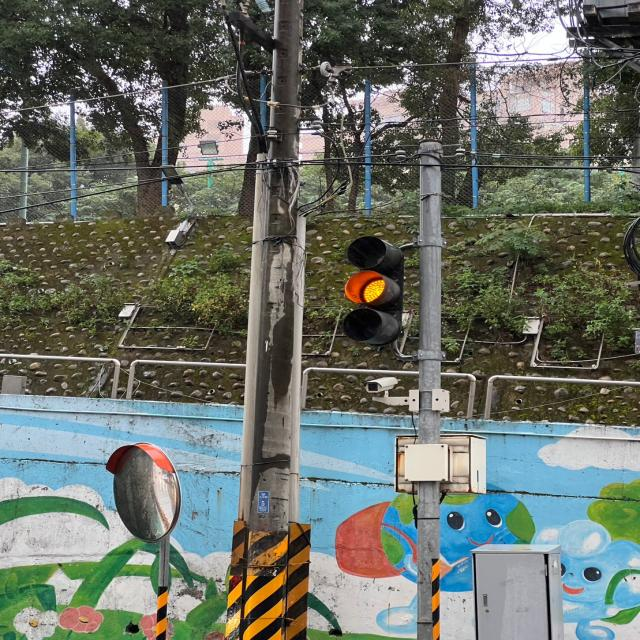yellow light: (342, 236, 402, 346)
